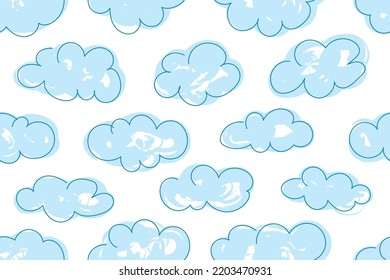cloud: (16, 41, 124, 103), (82, 113, 190, 174), (267, 36, 367, 100), (155, 40, 242, 108), (12, 173, 115, 224), (159, 162, 255, 214), (217, 108, 316, 154), (209, 223, 328, 261), (87, 217, 191, 260), (280, 165, 373, 213)
